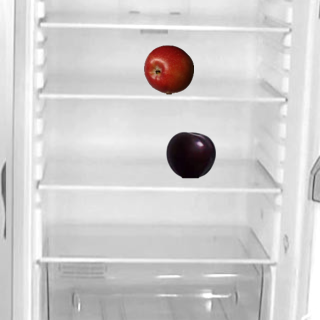Apple Braeburn: (143, 44, 193, 94)
Cherry Wax Black: (165, 129, 215, 179)
